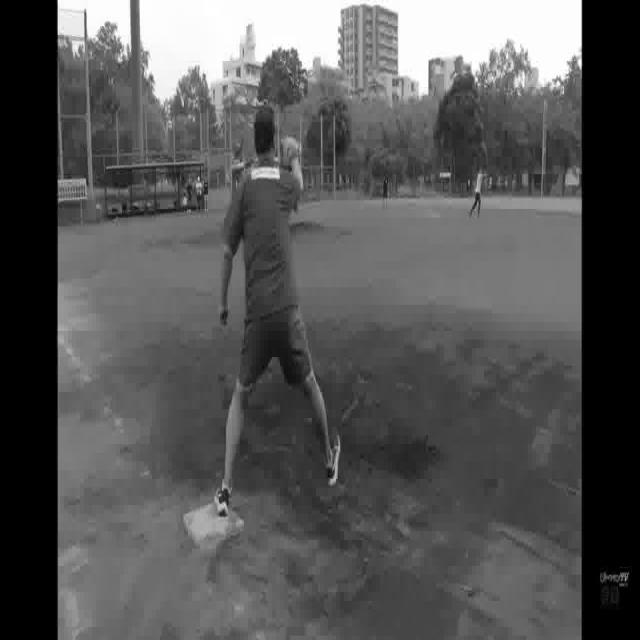base: (182, 504, 249, 547)
baseball_glove: (278, 136, 302, 166)
shoe: (324, 431, 342, 484), (213, 481, 236, 522)
